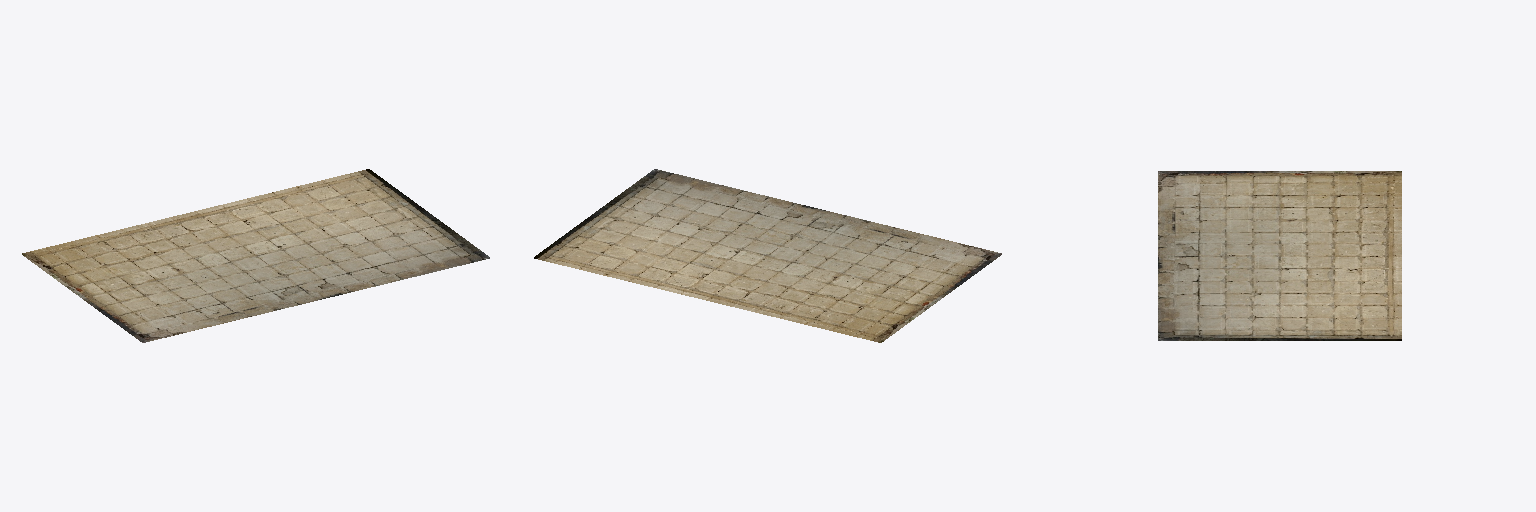
3 renders of one model, left to right at view 1: azimuth 30°, elevation 25°; view 2: azimuth 150°, elevation 25°; view 3: azimuth 270°, elevation 25°, orthographic.
Visible parts, largest first — view 1: Mesh_Mesh_floor; view 2: Mesh_Mesh_floor; view 3: Mesh_Mesh_floor.
Boxes of the visible parts, box(x1,y1,x2,y2) form: Mesh_Mesh_floor: box(22, 169, 489, 342); Mesh_Mesh_floor: box(534, 169, 1001, 342); Mesh_Mesh_floor: box(1158, 171, 1401, 340).
Size of the model in its own units: 10.85 by 0 by 6.59.
1 materials, 1 textured.